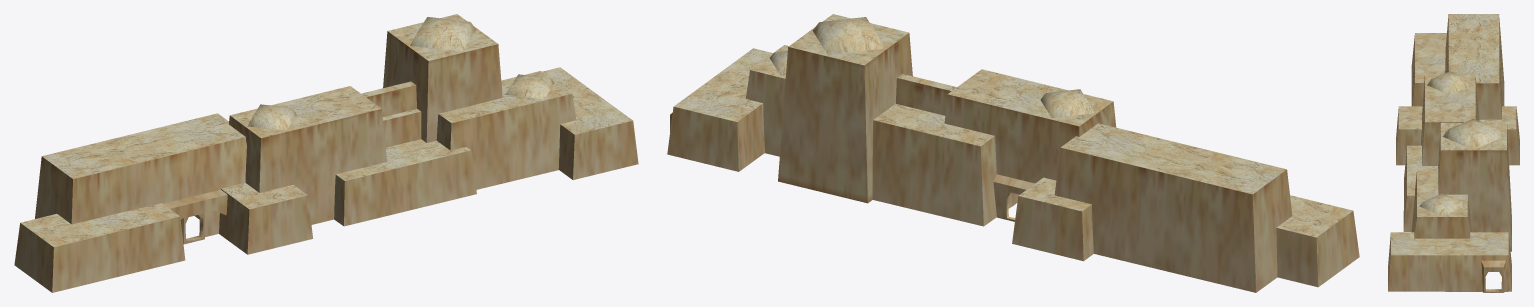
Rendered from thm_tato_block_bldg_64x16_s01_r0_exterior_mesh_r0_l3.fbx.
3 views of the same model, side by side, from view 1: azimuth 30°, elevation 25°; view 2: azimuth 150°, elevation 25°; view 3: azimuth 270°, elevation 25° (orthographic). The views are drawn at different scales.
Parts seen in each view (by area): view 1: mesh_node; view 2: mesh_node; view 3: mesh_node.
Part boxes in pixels (x1=…): mesh_node: x1=14, y1=14, x2=638, y2=292; mesh_node: x1=667, y1=14, x2=1359, y2=292; mesh_node: x1=1388, y1=14, x2=1519, y2=292.
Bounding box in the file's own units: 68.12 × 15.8 × 16.78.
